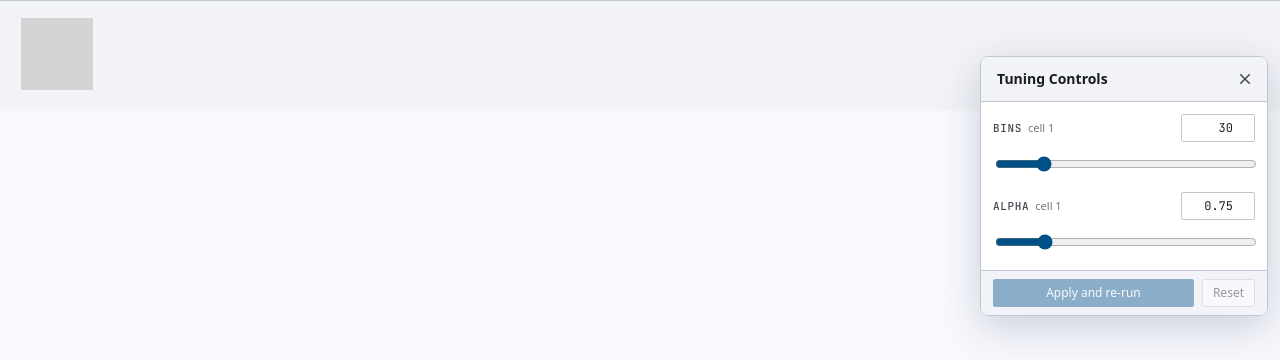
the apply button › counts the knobs that changed
Check: the button "Apply and re-run" is disabled, box [993,279,1194,307]
Replace the text in the number field named "BINS" with "40" at coordinates (1218, 128), box [1181,114,1255,142]
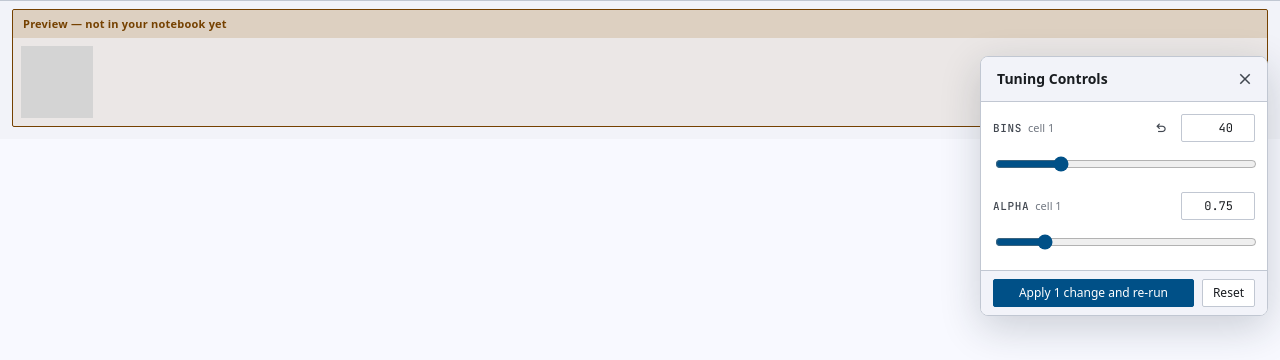
Check: the button "Apply 1 change and re-run" is shown, box [993,279,1194,307]
Replace the text in the number field named "ALPHA" with "0.2" at coordinates (1218, 206), box [1181,192,1255,220]
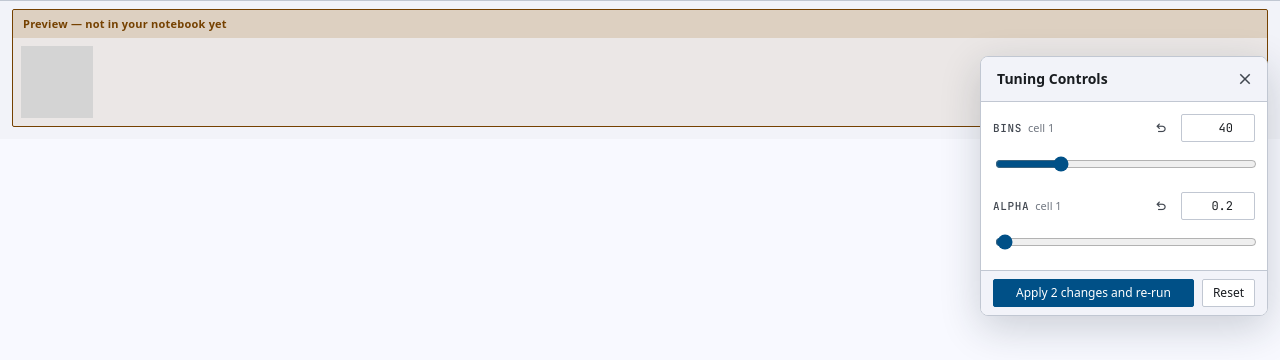
Check: the button "Apply 2 changes and re-run" is shown, box [993,279,1194,307]
Click the button named "Reset ALPHA" at coordinates (1161, 206), box [1147,192,1175,220]
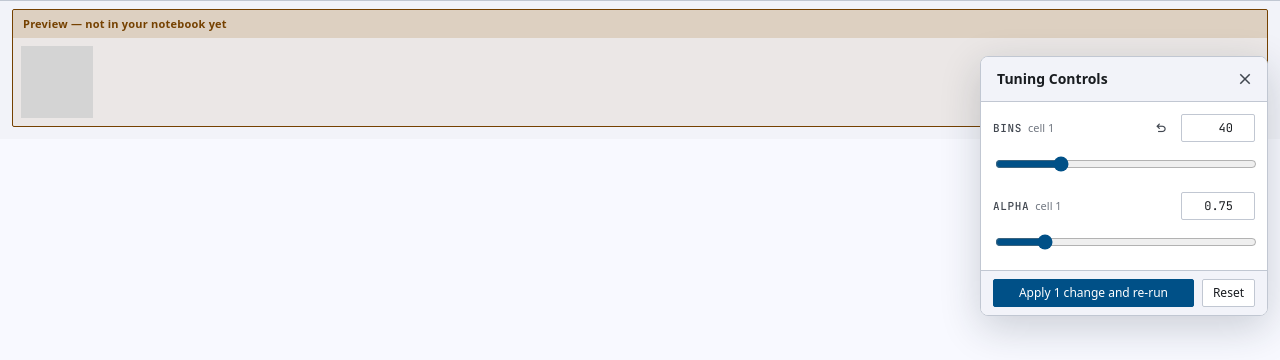
Check: the button "Apply 1 change and re-run" is shown, box [993,279,1194,307]
